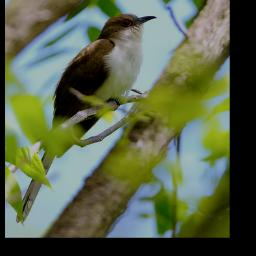Cuckoo: (13, 11, 158, 225)
